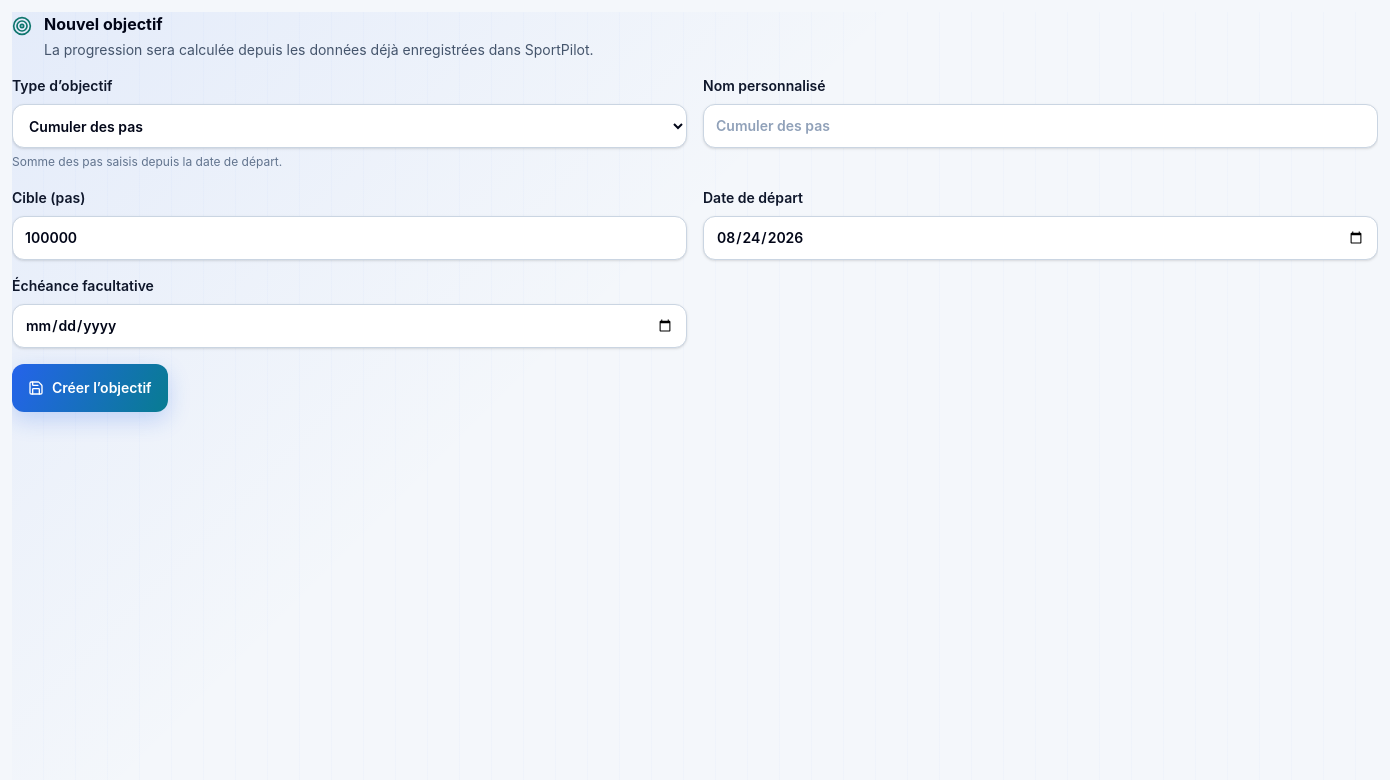
it: GoalEditor › préremplit un nouvel objectif de poids avec la dernière pesée connue
Select "Atteindre un poids" in the dropdown labelled "Type d’objectif" at (350, 126), box x1=12 y1=104 x2=687 y2=148
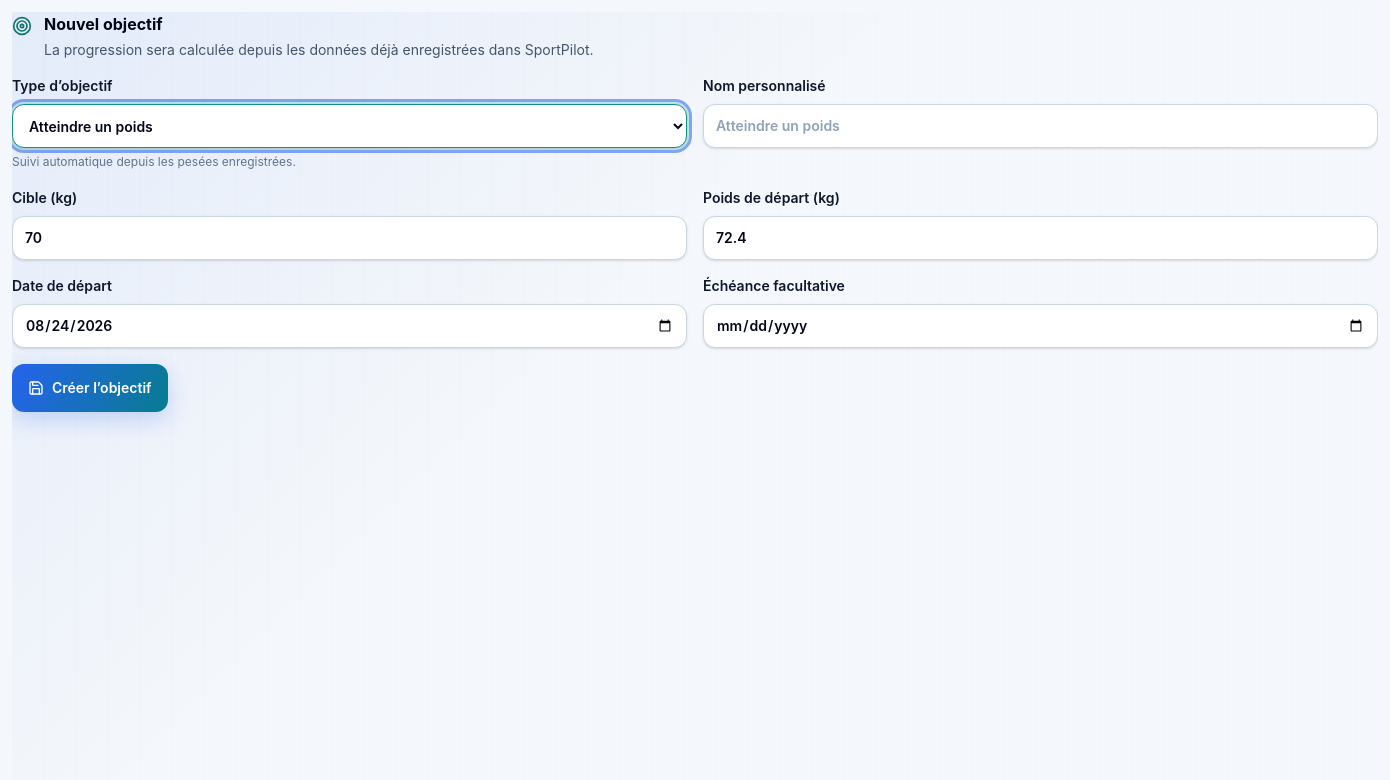
Now the number field labelled "Poids de départ (kg)" holds "72.4", box x1=703 y1=216 x2=1378 y2=260
